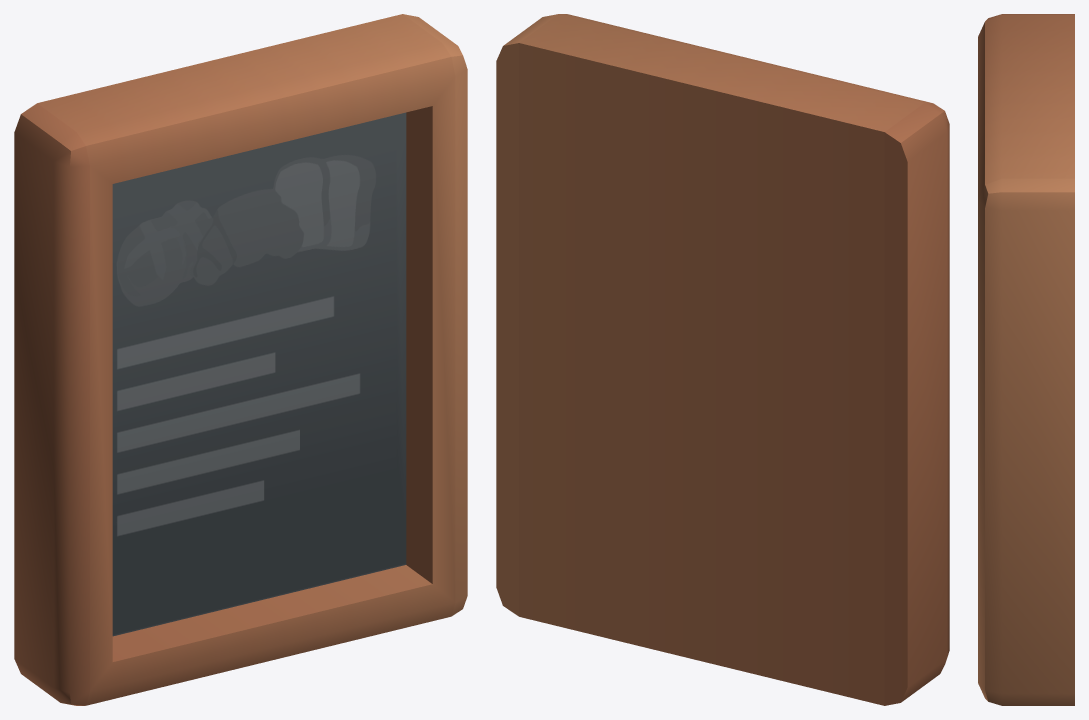
The model's file is wall-sign-small.glb.
3 renders of one model, left to right at view 1: azimuth 30°, elevation 25°; view 2: azimuth 150°, elevation 25°; view 3: azimuth 270°, elevation 25°, orthographic. The views are drawn at different scales.
Visible parts, largest first — view 1: wall_sign_small; view 2: wall_sign_small; view 3: wall_sign_small.
Boxes of the visible parts, box(x1,y1,x2,y2) form: wall_sign_small: box(14, 14, 467, 705); wall_sign_small: box(496, 14, 949, 705); wall_sign_small: box(978, 14, 1074, 705).
Size of the model in its own units: 0.9 by 1.2 by 0.2.
Materials: 2 (2 with a texture image).
